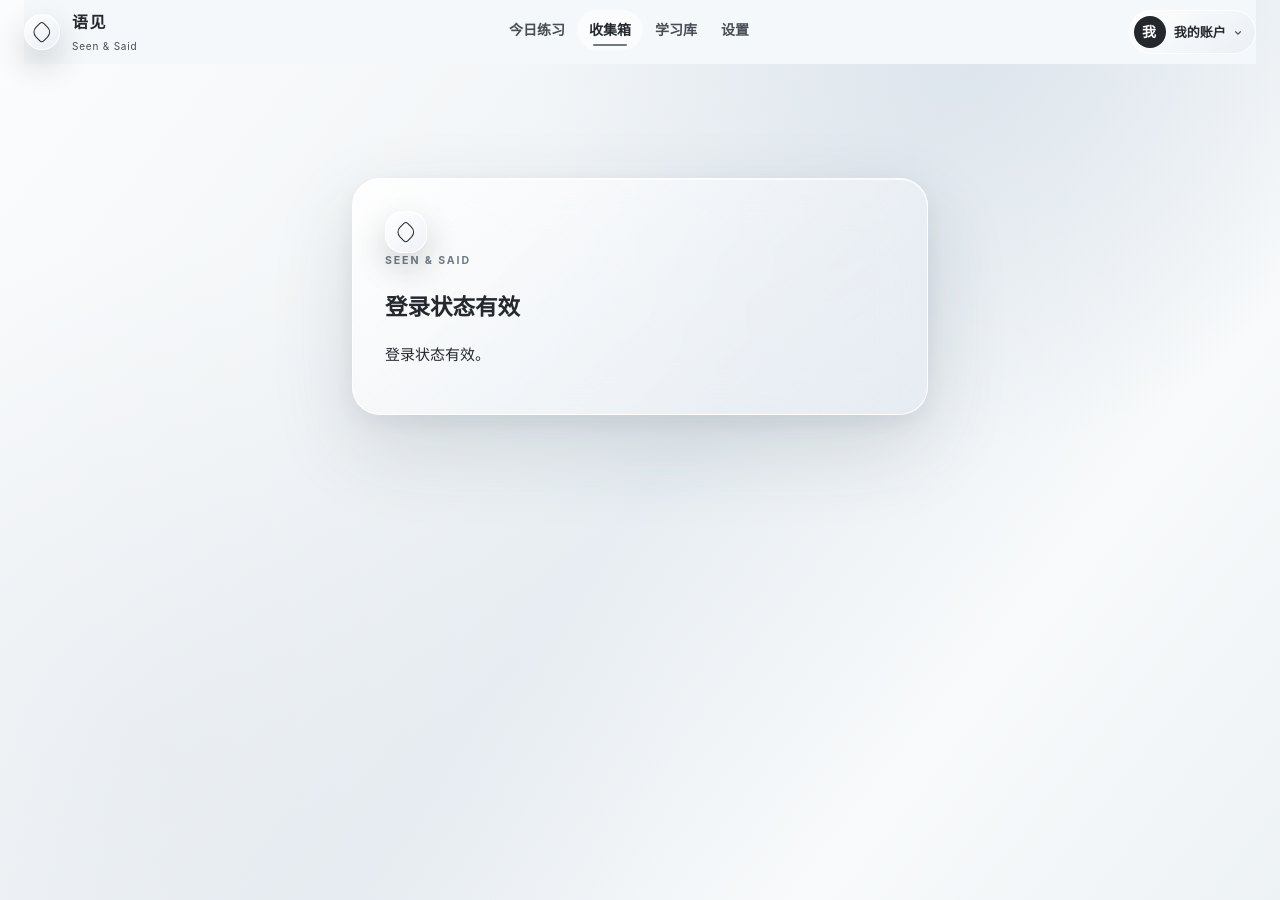
Scenario: workspace account menu › keeps settings and logout available if the account profile cannot load
Click the button with class "workspace-account-trigger". click: (1192, 32)
box: [1129,10,1256,54]
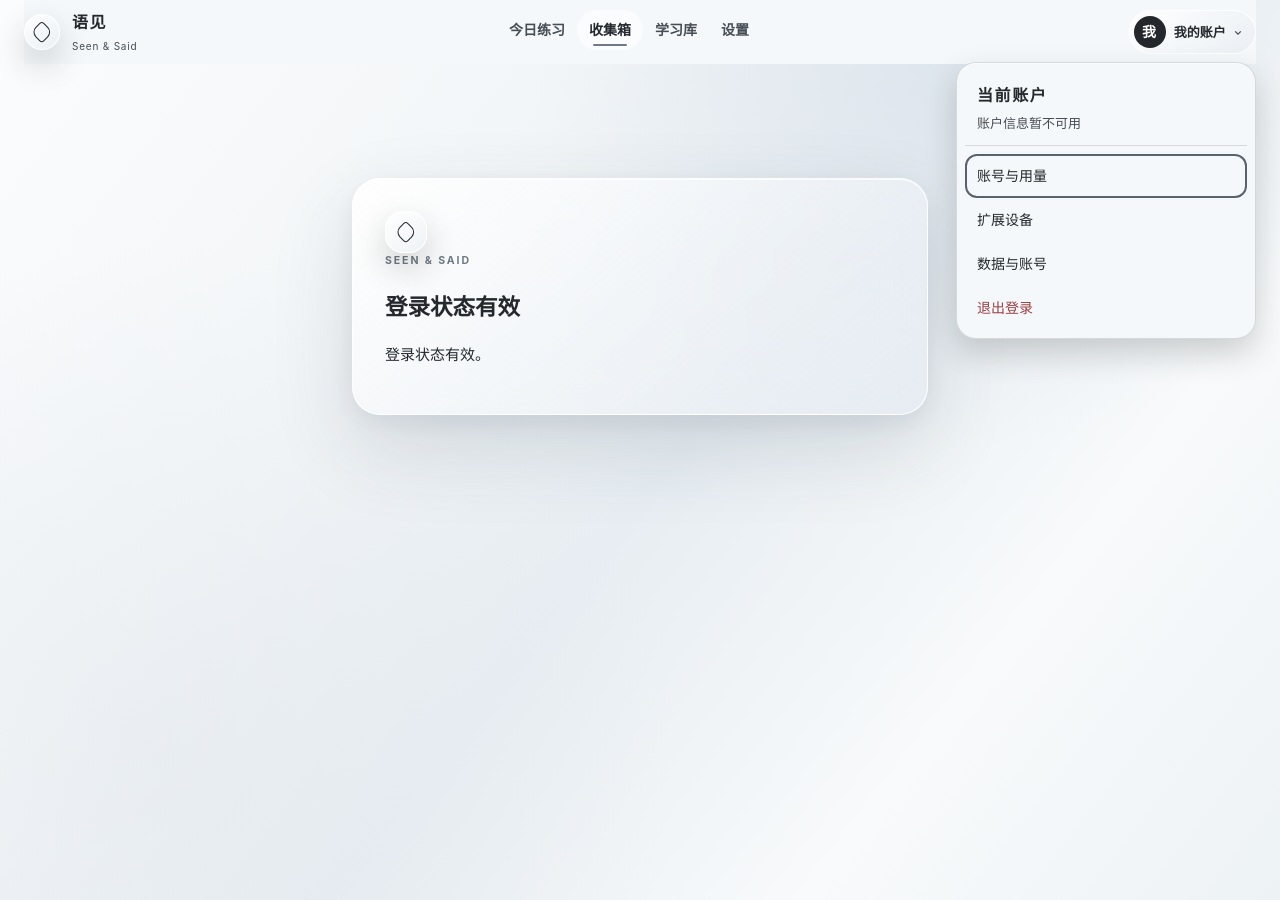
Result: the text "账户信息暂不可用" is shown at [977,115,1081,131]
Result: the menu item "账号与用量" is shown at [977,167,1047,184]
Click the menu item "退出登录". click: (1005, 308)
box: [965,286,1247,330]
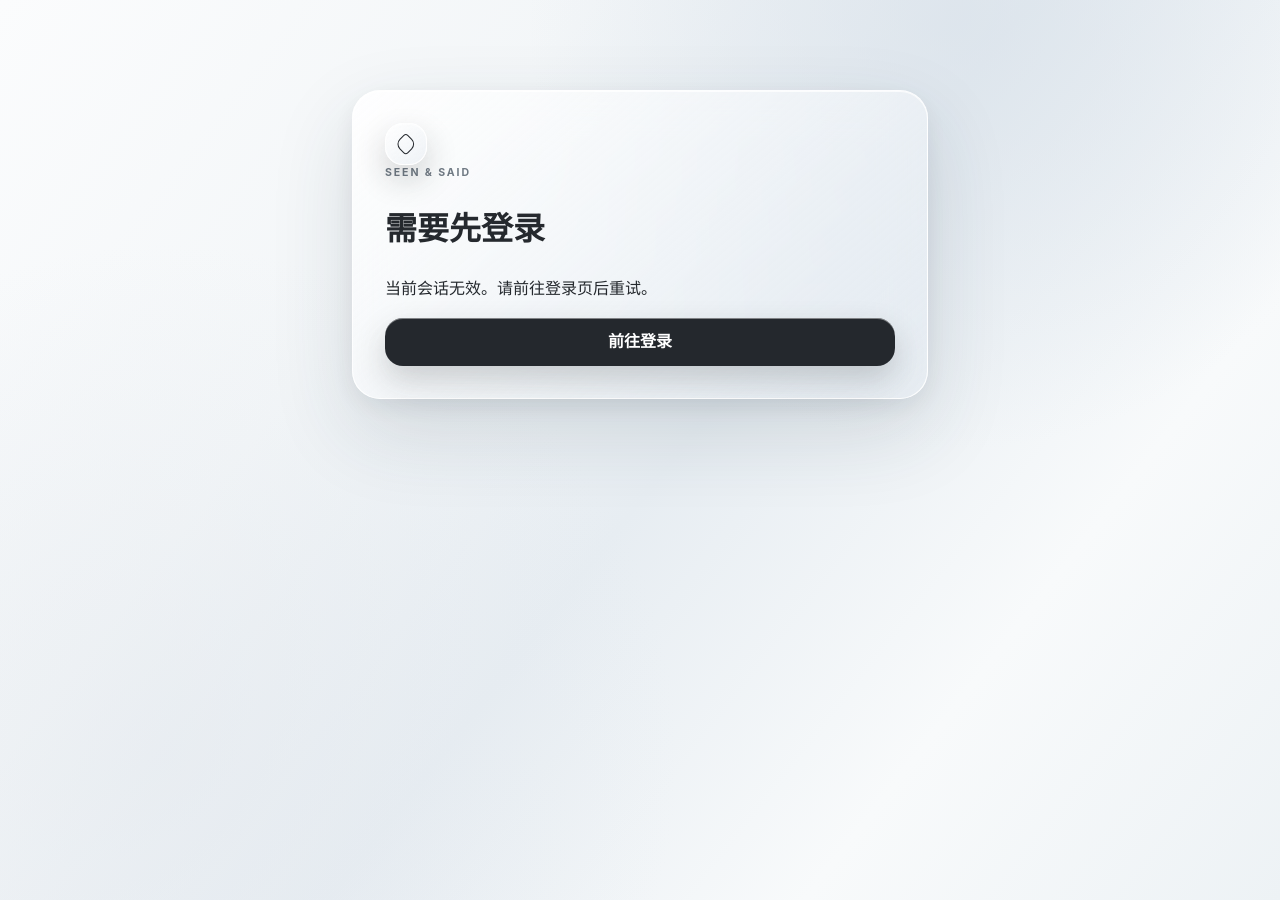
Result: the heading "需要先登录" is shown at [385,209,545,248]
